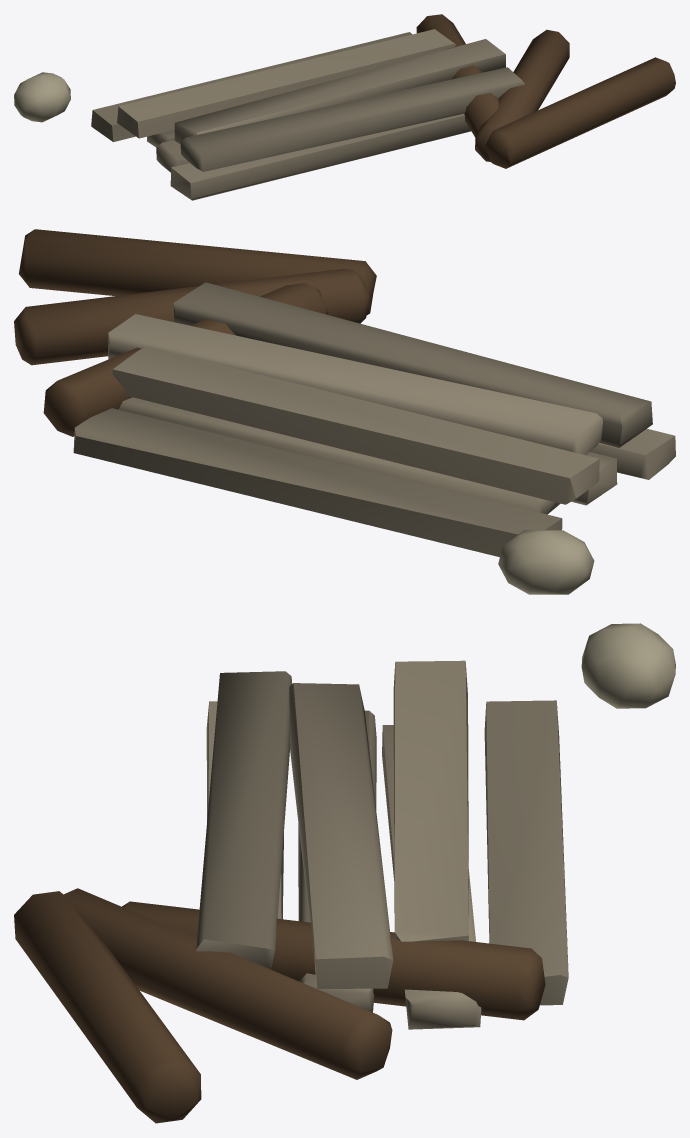
File: timber_lagging_a_lod1.glb
The picture shows the model from 3 angles, top to bottom: view 1: azimuth 30°, elevation 25°; view 2: azimuth 150°, elevation 25°; view 3: azimuth 270°, elevation 25°; orthographic projection. The views are drawn at different scales.
Visible parts, largest first — view 1: Surface.001; view 2: Surface.001; view 3: Surface.001.
Part boxes in pixels (left/top/right/bottom): Surface.001: left=14, top=14, right=675, bottom=200; Surface.001: left=14, top=229, right=675, bottom=594; Surface.001: left=14, top=623, right=675, bottom=1123.
Bounding box in the file's own units: 3.9 × 0.3342 × 2.41.
